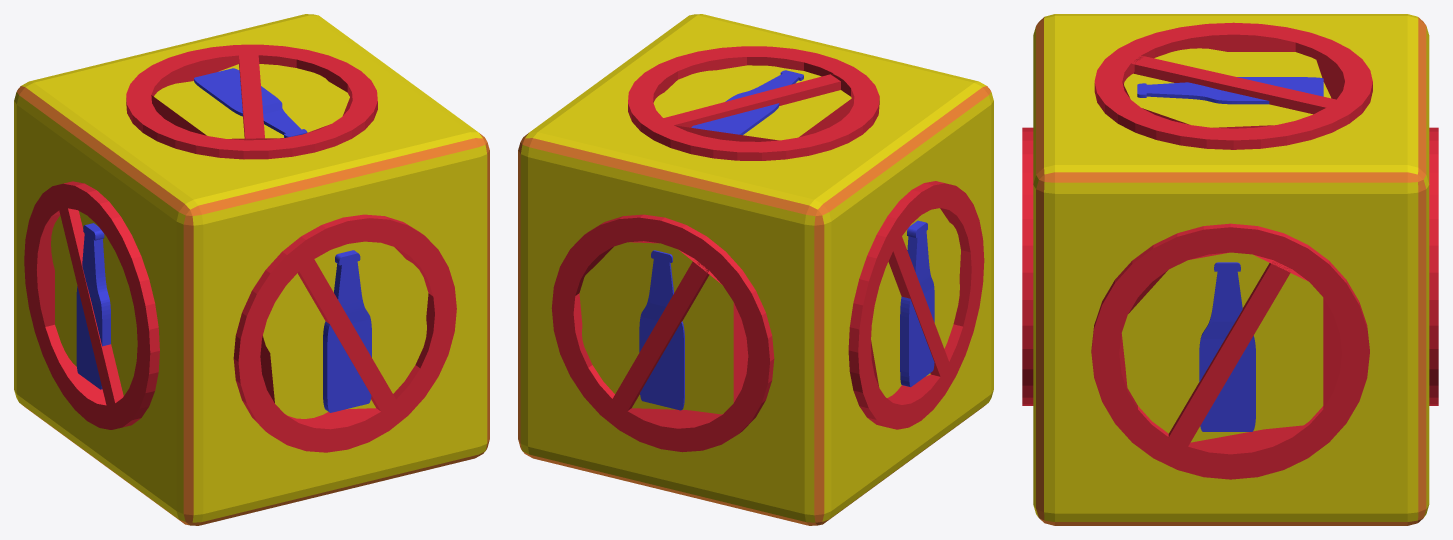
The model's file is Caja.fbx.
The picture shows the model from 3 angles, left to right: view 1: azimuth 30°, elevation 25°; view 2: azimuth 150°, elevation 25°; view 3: azimuth 270°, elevation 25°; orthographic projection. The views are drawn at different scales.
Visible parts, largest first — view 1: Cube, Cylinder.004, Cylinder.001, Cylinder.005; view 2: Cube, Cylinder.003, Cylinder.001, Cylinder.005; view 3: Cube, Cylinder.002, Cylinder.005, Cylinder.004, Cylinder.003.
Boxes of the visible parts, x1,y1,x2,y2 form: Cube: (14, 14, 489, 525); Cylinder.004: (233, 214, 456, 452); Cylinder.001: (24, 181, 159, 429); Cylinder.005: (126, 44, 377, 159); Cube: (518, 14, 993, 525); Cylinder.003: (551, 214, 774, 452); Cylinder.001: (848, 181, 984, 429); Cylinder.005: (628, 46, 879, 160); Cube: (1033, 14, 1429, 525); Cylinder.002: (1091, 223, 1369, 479); Cylinder.005: (1094, 22, 1372, 149); Cylinder.004: (1022, 127, 1033, 405); Cylinder.003: (1429, 127, 1438, 405).
Bounding box in the file's own units: 211 × 210 × 210.
